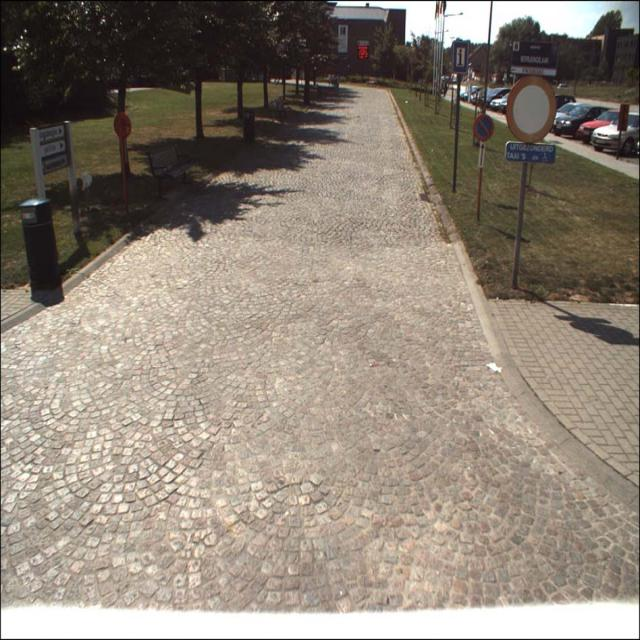parkyasak: (473, 115, 493, 141)
